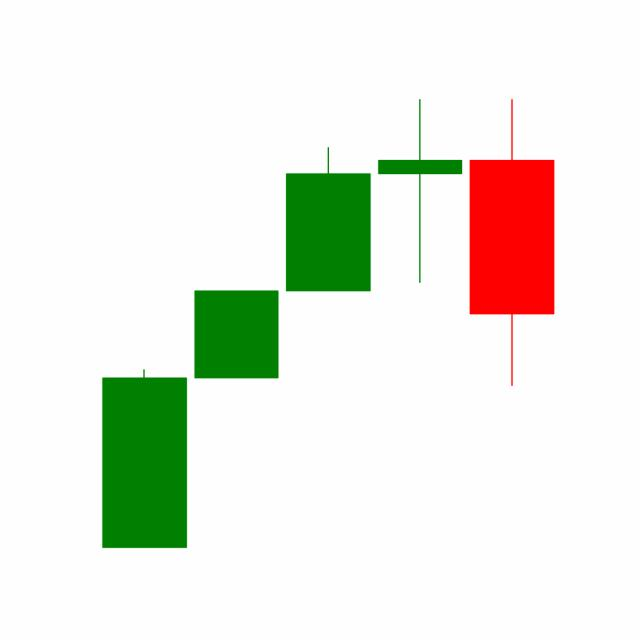Spinning Top: (373, 96, 467, 285)
